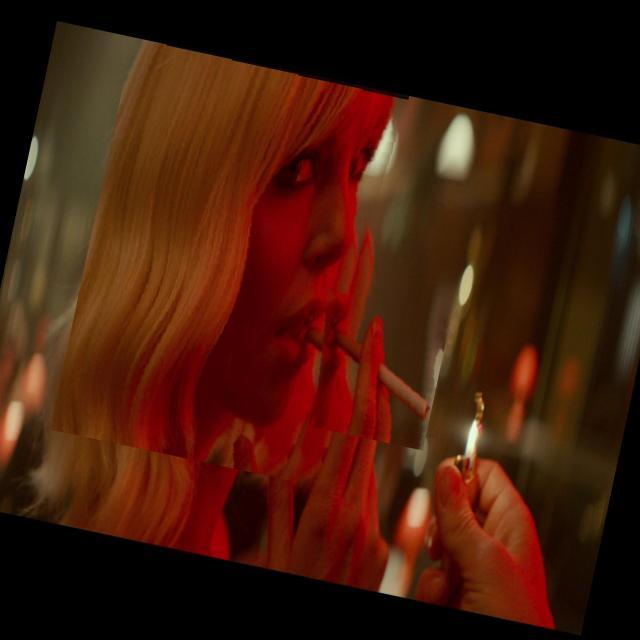cigarette: (299, 288, 451, 450)
